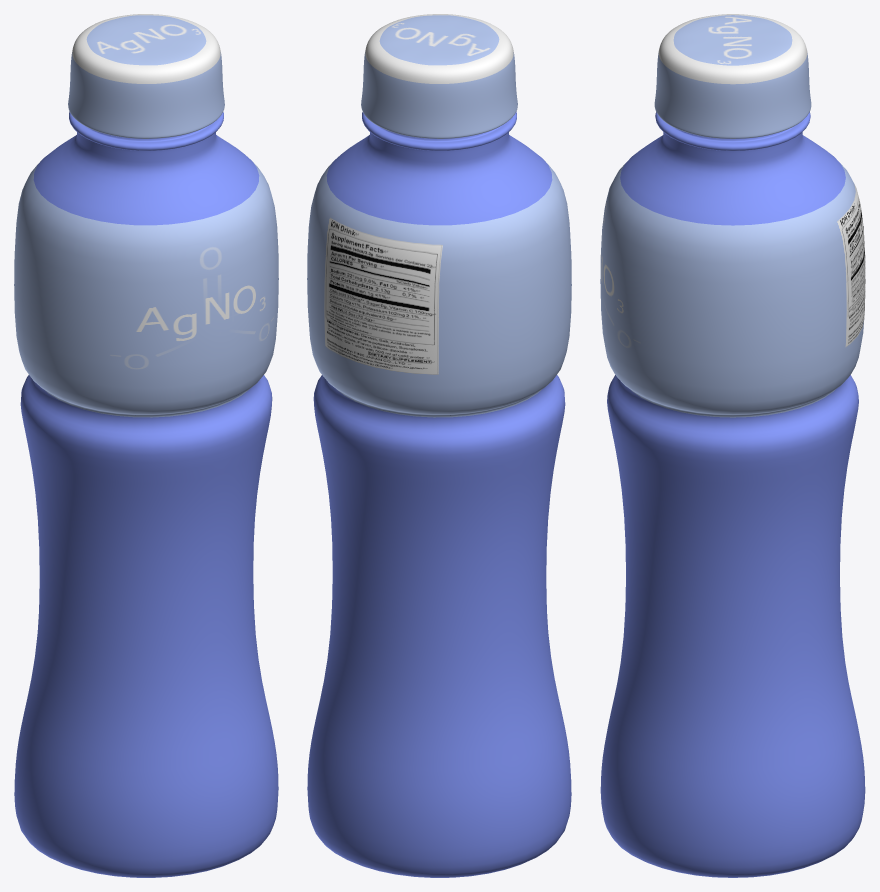
File: ionDrink_H.fbx
The picture shows the model from 3 angles, left to right: view 1: azimuth 30°, elevation 25°; view 2: azimuth 150°, elevation 25°; view 3: azimuth 270°, elevation 25°; orthographic projection.
Parts seen in each view (by area): view 1: Cylinder, Cylinder.001; view 2: Cylinder, Cylinder.001; view 3: Cylinder, Cylinder.001.
Part boxes in pixels (bbox=[...]): Cylinder: bbox=[14, 111, 278, 877]; Cylinder.001: bbox=[68, 14, 224, 138]; Cylinder: bbox=[307, 111, 571, 877]; Cylinder.001: bbox=[361, 14, 517, 138]; Cylinder: bbox=[600, 112, 865, 877]; Cylinder.001: bbox=[654, 14, 811, 138].
Size of the model in its own units: 132 by 435 by 132.
